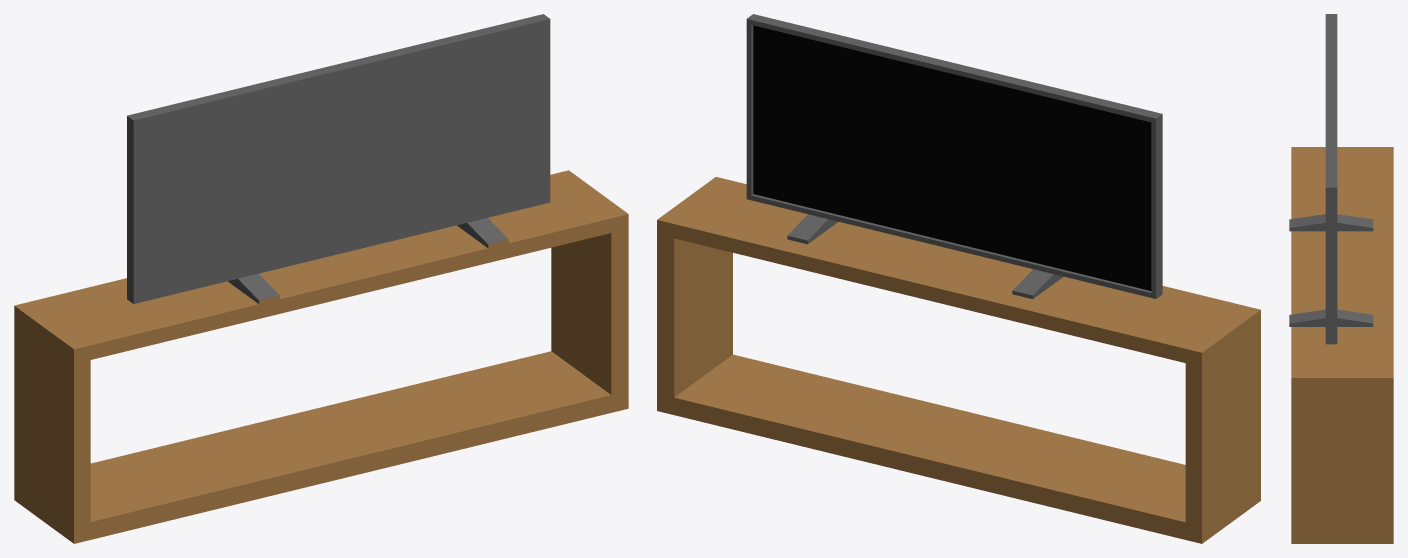
The model's file is tv meubel.fbx.
3 views of the same model, side by side, from view 1: azimuth 30°, elevation 25°; view 2: azimuth 150°, elevation 25°; view 3: azimuth 270°, elevation 25° (orthographic). The views are drawn at different scales.
Parts seen in each view (by area): view 1: tv meubel.boven; view 2: tv meubel.boven; view 3: tv meubel.boven.
Part boxes in pixels (left/top/right/bottom): tv meubel.boven: left=14, top=14, right=628, bottom=543; tv meubel.boven: left=657, top=14, right=1260, bottom=543; tv meubel.boven: left=1289, top=14, right=1393, bottom=543.
Size of the model in its own units: 4886 by 3276 by 930.
